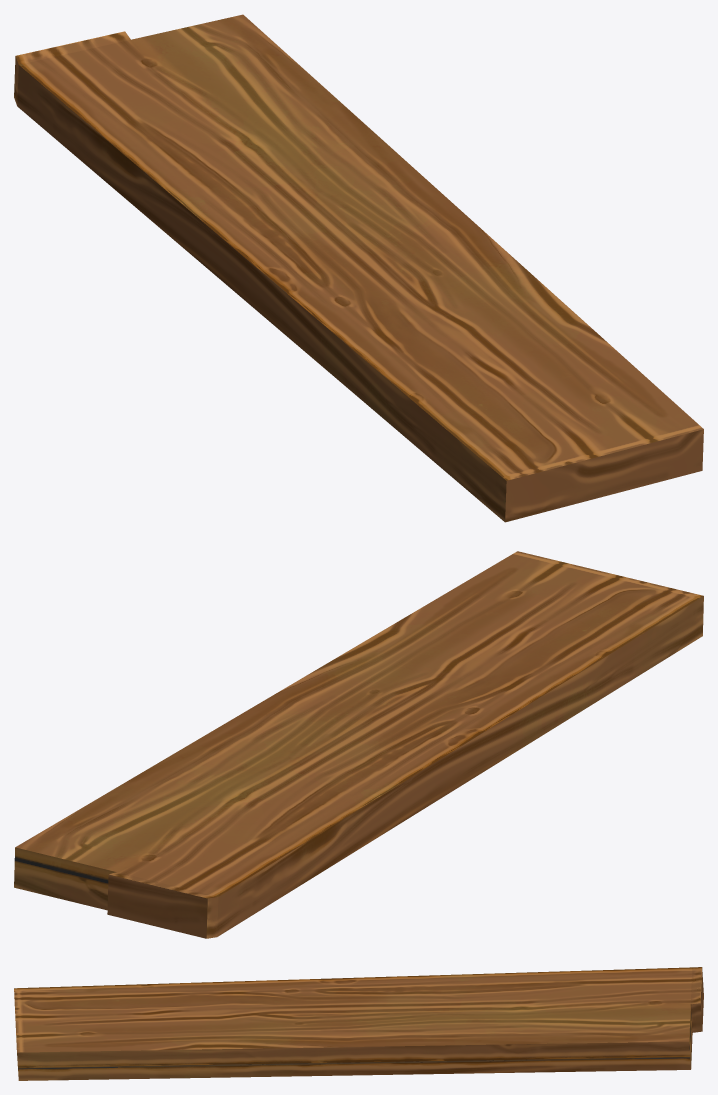
3 views of the same model, one above another, from view 1: azimuth 30°, elevation 25°; view 2: azimuth 150°, elevation 25°; view 3: azimuth 270°, elevation 25° (orthographic). The views are drawn at different scales.
Parts seen in each view (by area): view 1: Cube.880; view 2: Cube.880; view 3: Cube.880.
Boxes of the visible parts, x1=… form: Cube.880: x1=14, y1=14, x2=703, y2=522; Cube.880: x1=14, y1=551, x2=703, y2=938; Cube.880: x1=14, y1=967, x2=703, y2=1080.
Size of the model in its own units: 63.37 by 21.47 by 234.
Materials: 1 (1 with a texture image).
